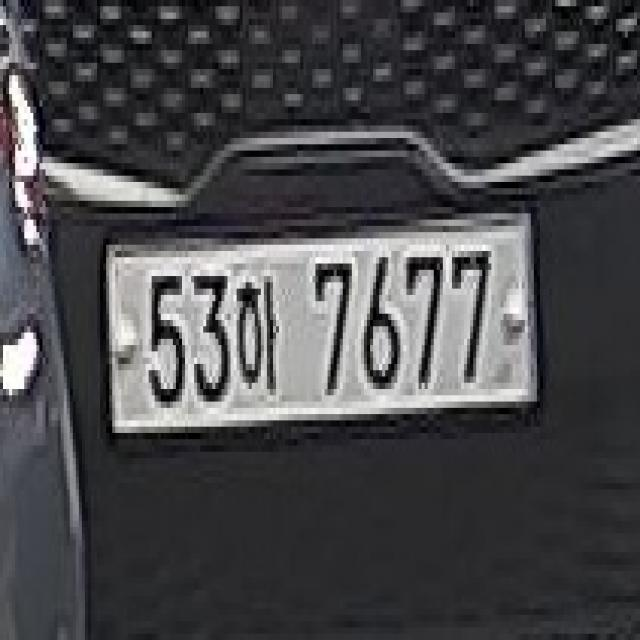3: (182, 251, 231, 408)
5: (140, 263, 188, 408)
6: (358, 238, 406, 396)
7: (406, 245, 461, 408), (306, 245, 355, 389), (449, 251, 497, 389)
ha: (228, 264, 288, 426)
license_plate: (97, 207, 543, 452)
